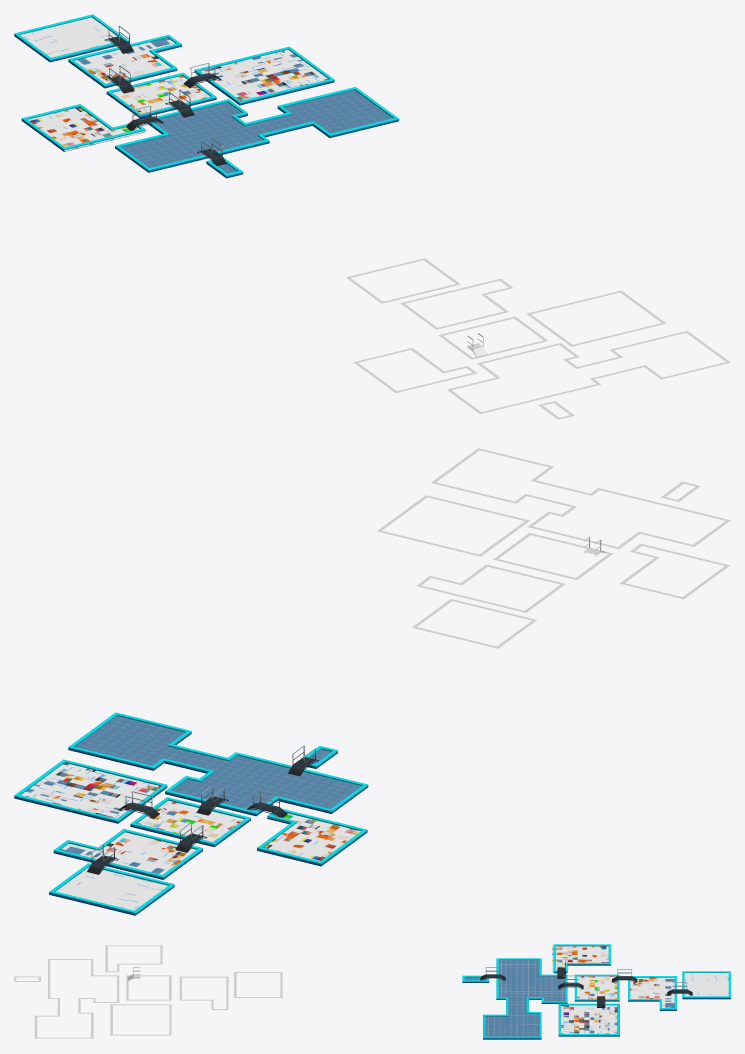
The model's file is Terrain.fbx.
3 views of the same model, one above another, from view 1: azimuth 30°, elevation 25°; view 2: azimuth 150°, elevation 25°; view 3: azimuth 270°, elevation 25° (orthographic). The views are drawn at different scales.
Visible parts, largest first — view 1: Plane, Plane.001, Plane.002; view 2: Plane, Plane.001, Plane.002; view 3: Plane, Plane.001, Plane.002, Plataforma.007, Plataforma.008.
Boxes of the visible parts, x1=… form: Plane: x1=20, y1=17, x2=392, y2=173; Plane.001: x1=14, y1=14, x2=398, y2=178; Plane.002: x1=346, y1=258, x2=730, y2=419; Plane: x1=21, y1=716, x2=368, y2=910; Plane.001: x1=14, y1=712, x2=368, y2=915; Plane.002: x1=377, y1=448, x2=730, y2=648; Plane: x1=464, y1=945, x2=728, y2=1036; Plane.001: x1=462, y1=944, x2=730, y2=1039; Plane.002: x1=14, y1=945, x2=282, y2=1038; Plataforma.007: x1=558, y1=975, x2=583, y2=989; Plataforma.008: x1=612, y1=969, x2=637, y2=982.
Bounding box in the file's own units: 373 × 1211 × 21.14.
